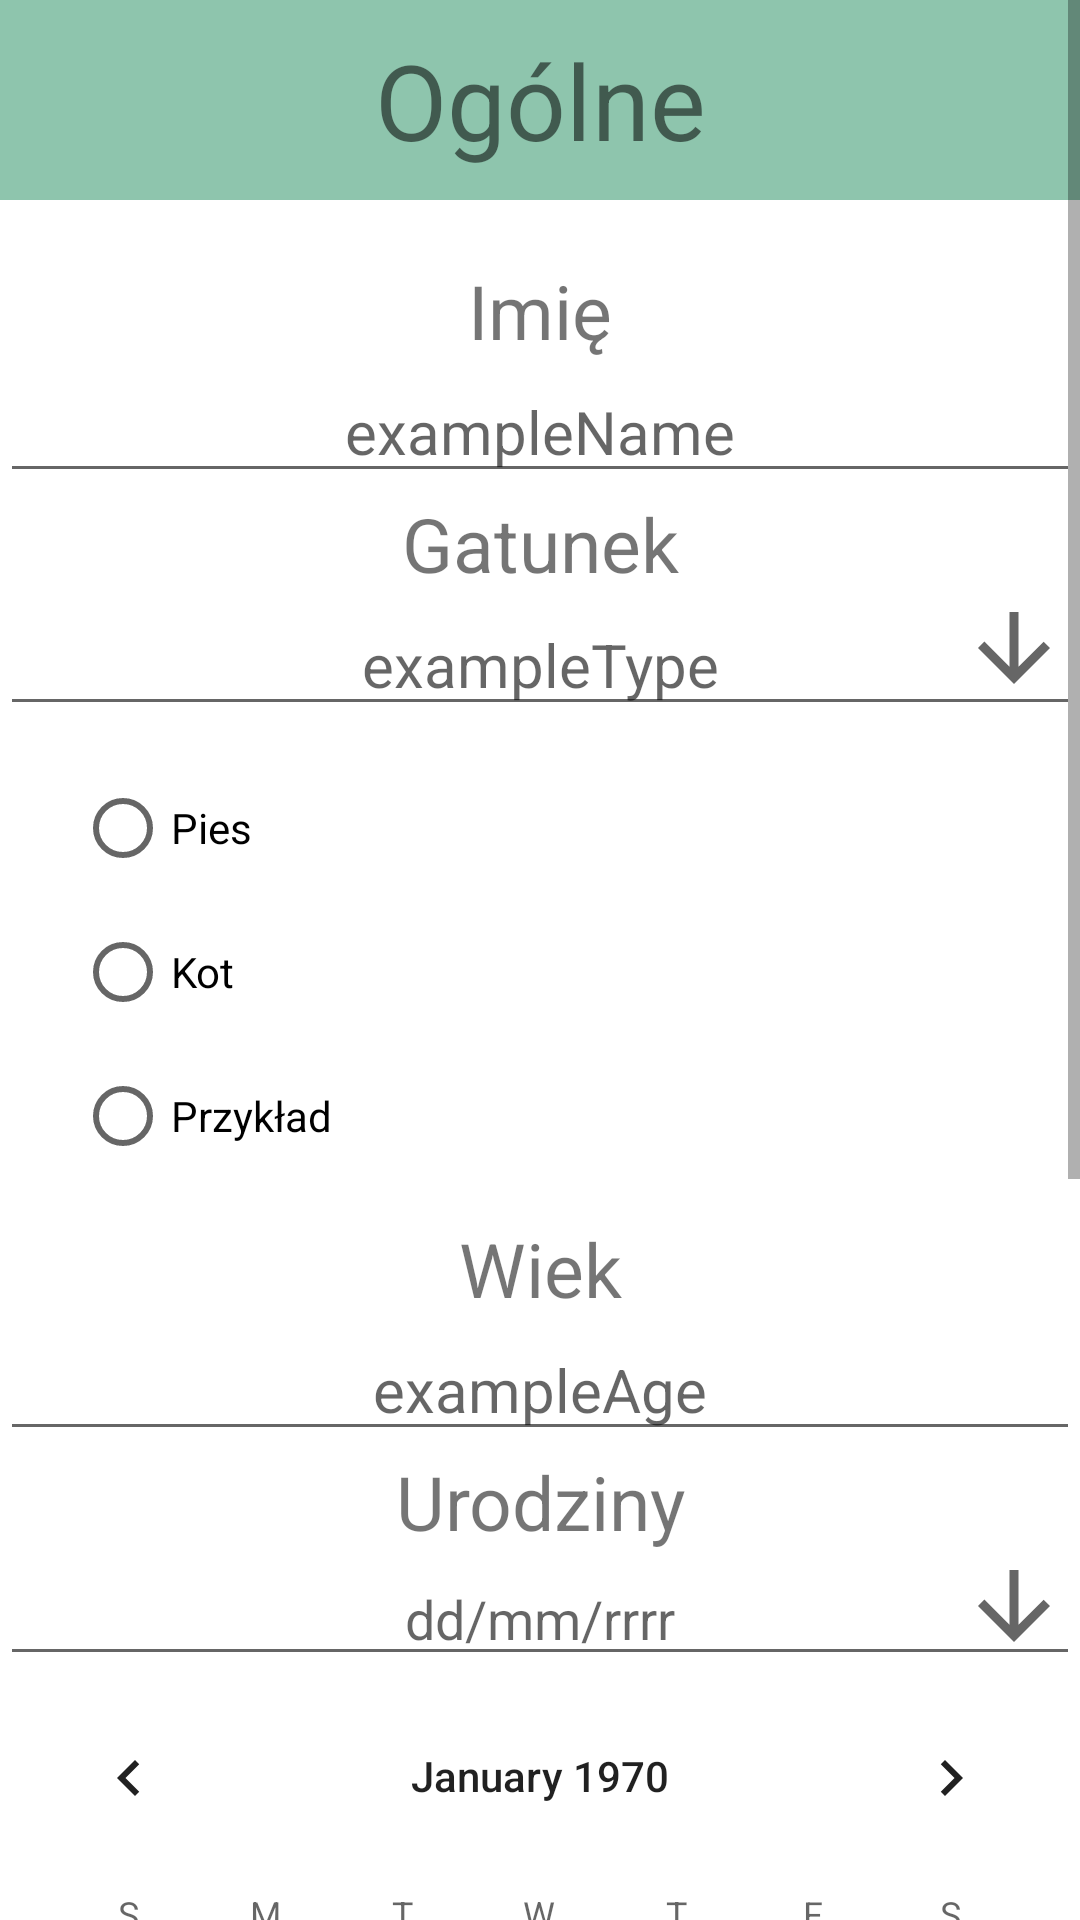

Point at icon controls on the screen. Image size 1080×1920, points as (x=x, y=y).
arrow downward: (x=1014, y=648), (x=1014, y=1606)
